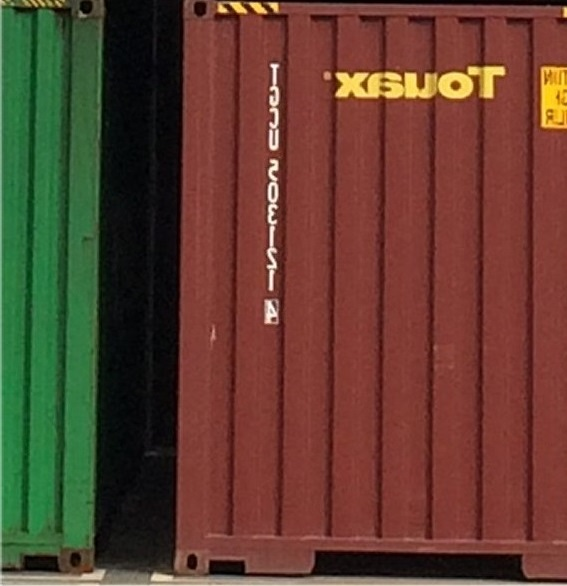container_door: (169, 1, 562, 572)
